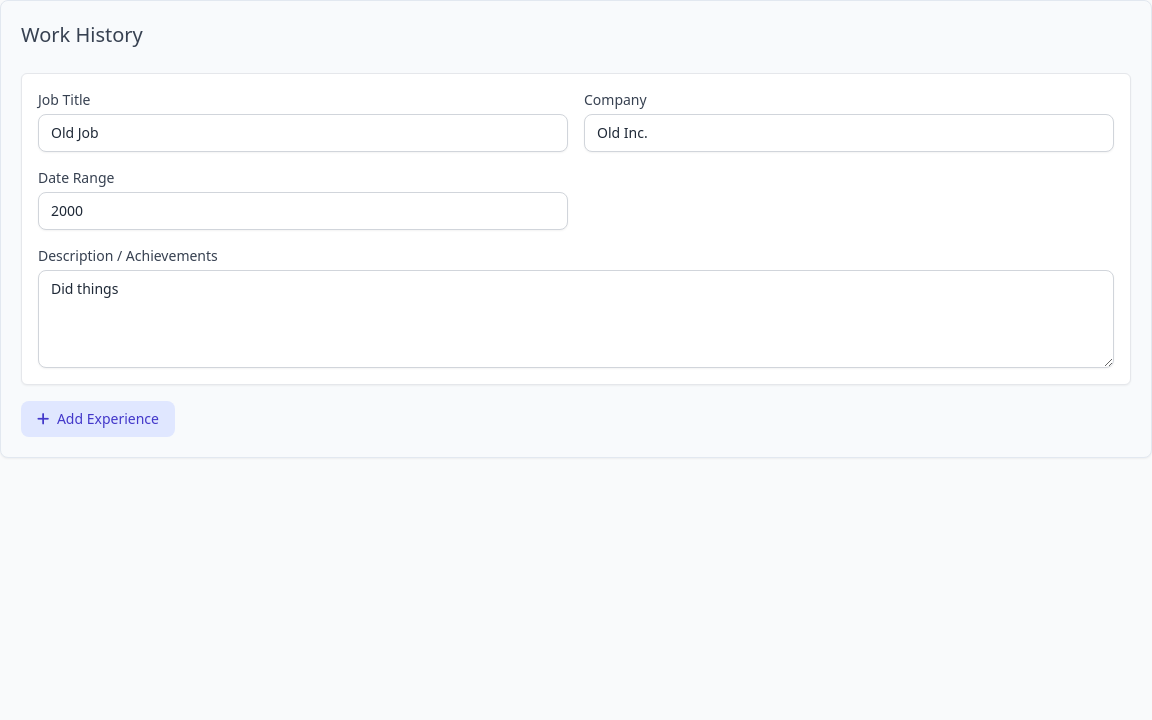
WorkExperienceEditor.vue › adds a new item when "Add Experience" is clicked
Click the button "Add Experience" at (98, 419), box 21,401 -> 175,437
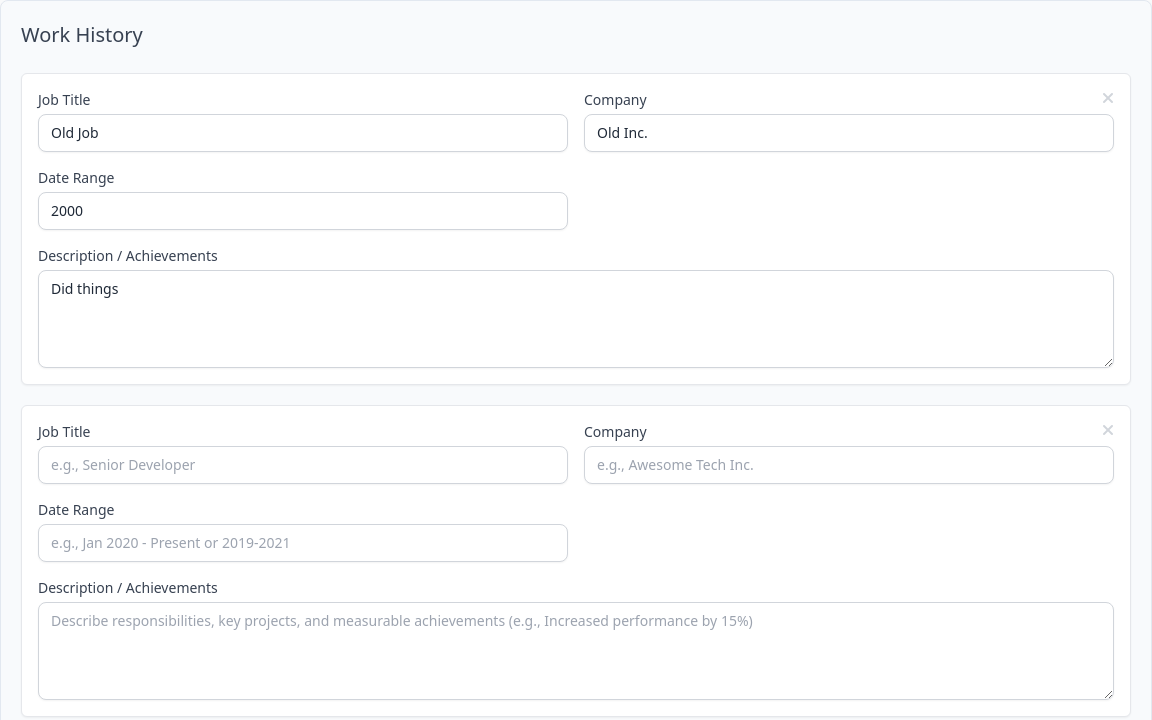
Expected: the number of fields labelled "Job Title" is 2, 38,114 -> 568,152; 38,446 -> 568,484
